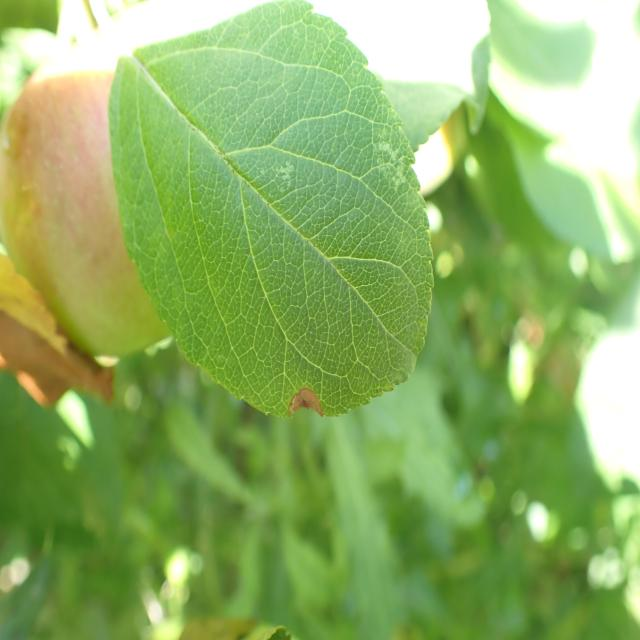Black Rot: (258, 382, 348, 443)
